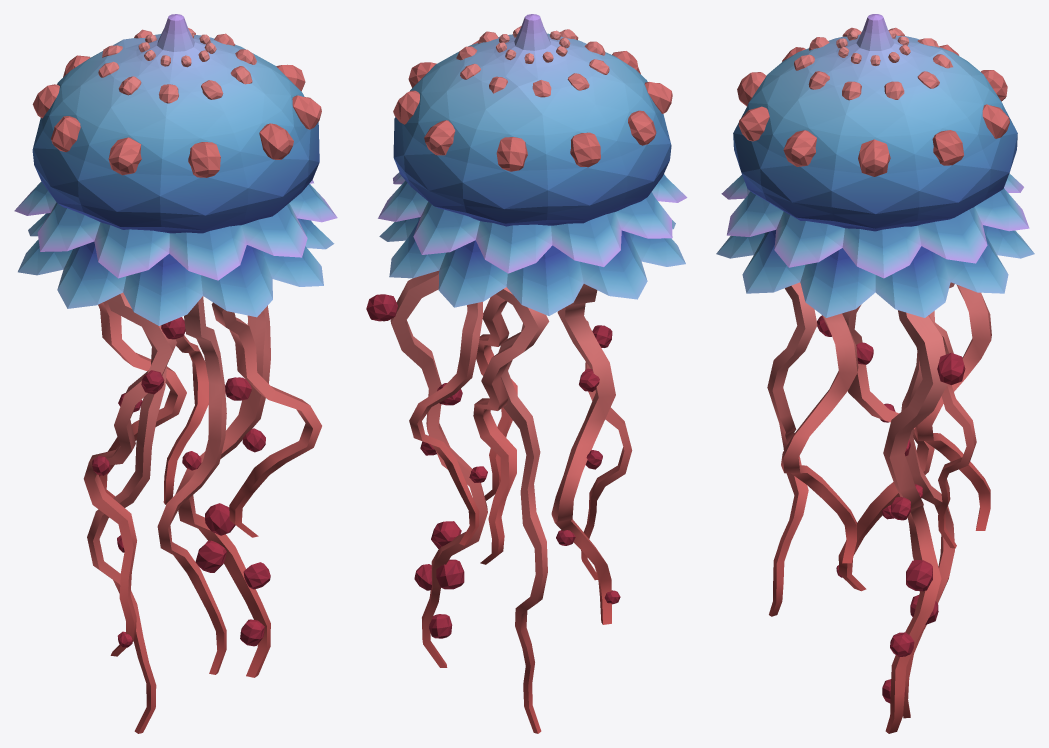
File: jellyfish_02.FBX
3 views of the same model, side by side, from view 1: azimuth 30°, elevation 25°; view 2: azimuth 150°, elevation 25°; view 3: azimuth 270°, elevation 25° (orthographic). The views are drawn at different scales.
Parts seen in each view (by area): view 1: jellyfish_02; view 2: jellyfish_02; view 3: jellyfish_02.
Boxes of the visible parts, bbox=[...] form: jellyfish_02: bbox=[14, 14, 337, 733]; jellyfish_02: bbox=[366, 14, 687, 733]; jellyfish_02: bbox=[716, 14, 1034, 733].
Size of the model in its own units: 3.42 by 8.45 by 3.43.
Materials: 1 (1 with a texture image).
